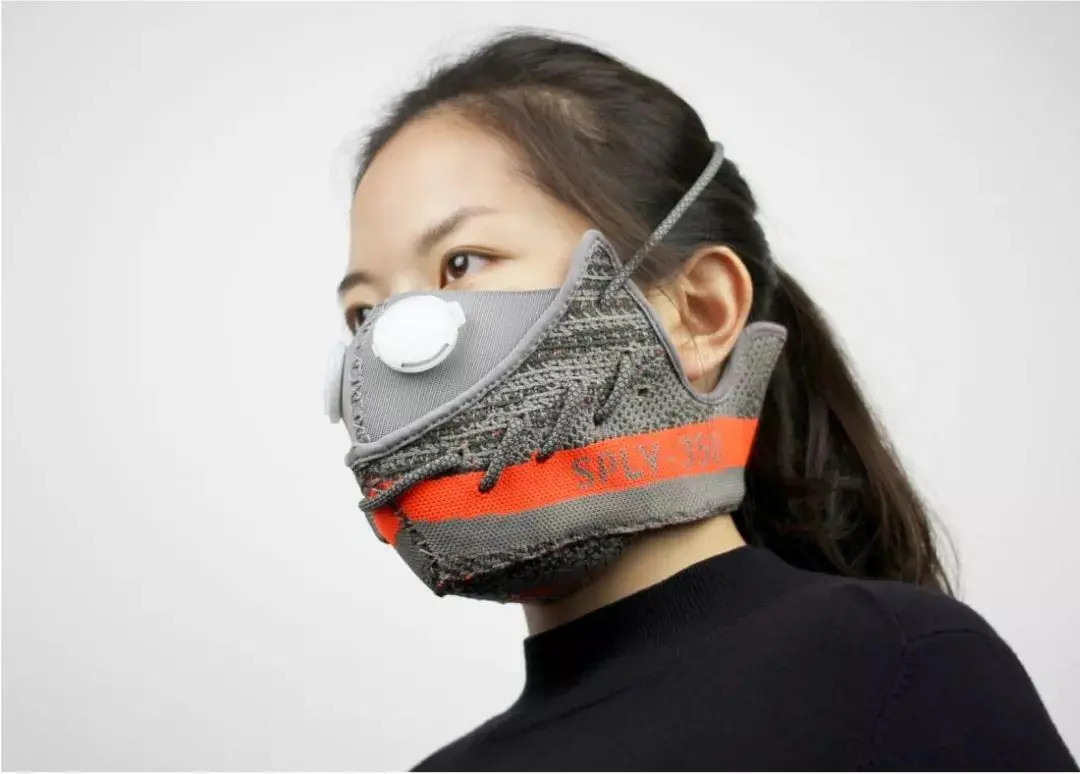withmask: (315, 9, 814, 594)
